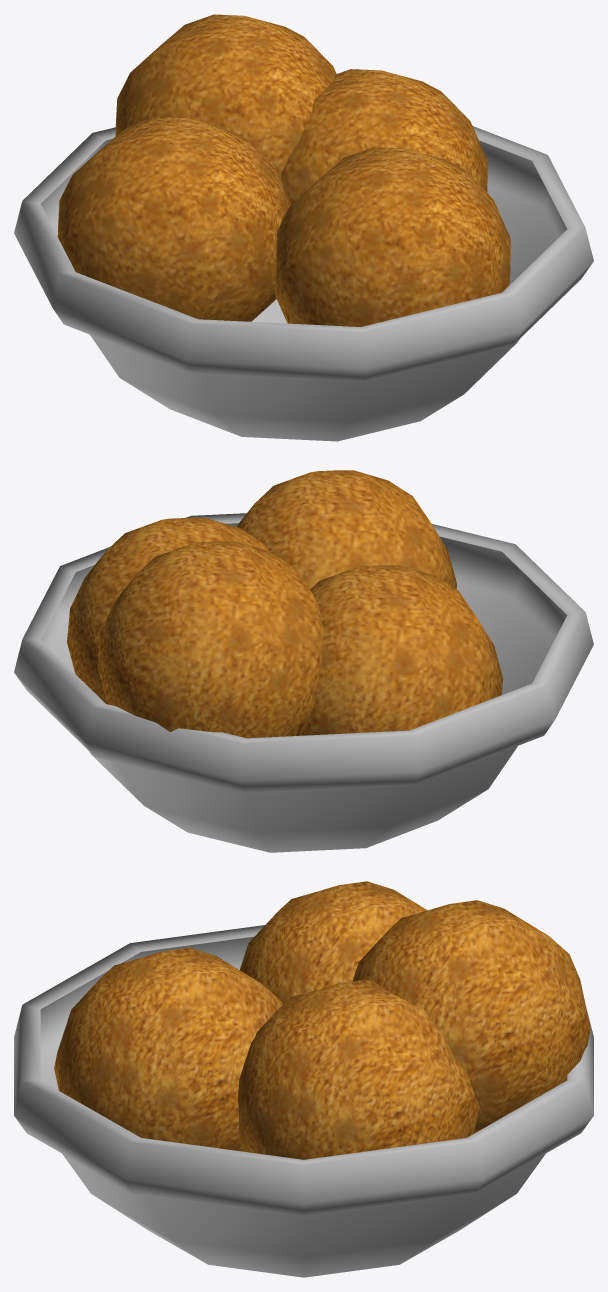
File: falafal.fbx
3 renders of one model, top to bottom at view 1: azimuth 30°, elevation 25°; view 2: azimuth 150°, elevation 25°; view 3: azimuth 270°, elevation 25°, orthographic. The views are drawn at different scales.
Visible parts, largest first — view 1: pSphere7; view 2: pSphere7; view 3: pSphere7.
Part boxes in pixels (x1,y1,x2,y2): pSphere7: (14,14,593,441); pSphere7: (14,470,593,852); pSphere7: (14,881,593,1277).
Bounding box in the file's own units: 3.31 × 2.06 × 3.2.
